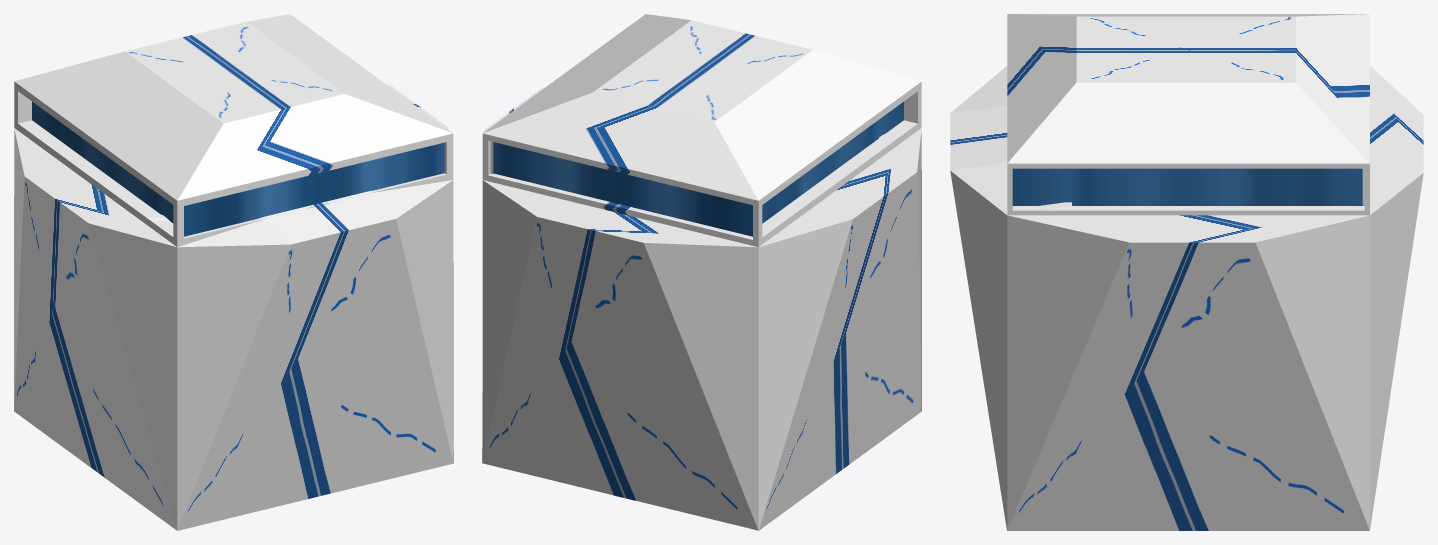
Rendered from CyberBox.fbx.
The picture shows the model from 3 angles, left to right: view 1: azimuth 30°, elevation 25°; view 2: azimuth 150°, elevation 25°; view 3: azimuth 270°, elevation 25°; orthographic projection. The views are drawn at different scales.
Visible parts, largest first — view 1: Box001; view 2: Box001; view 3: Box001.
Boxes of the visible parts, left/top/right/bottom form: Box001: left=14, top=14, right=453, bottom=530; Box001: left=482, top=14, right=921, bottom=530; Box001: left=950, top=14, right=1423, bottom=530.
Bounding box in the file's own units: 81.4 × 77.28 × 81.61.
